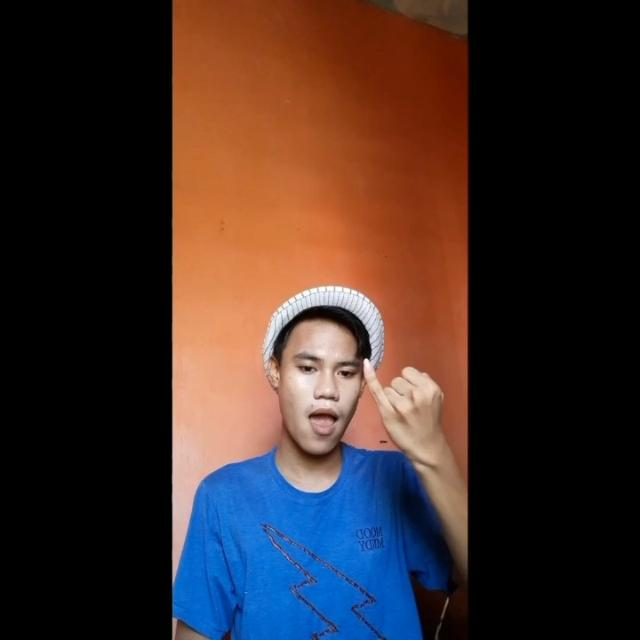J: (363, 355, 451, 473)
